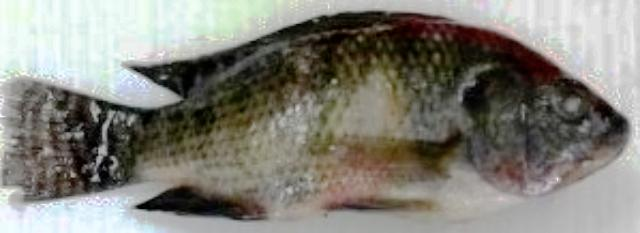Tilapia Lake Virus -TiLV-: (4, 11, 625, 218)
